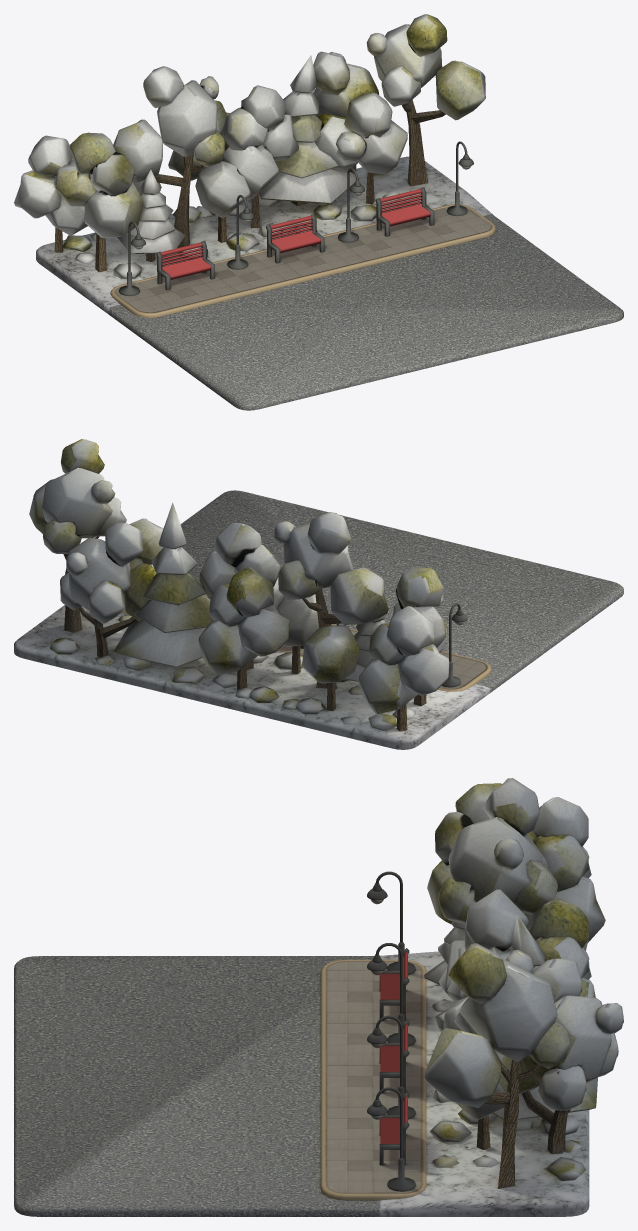
The model's file is winter_pak_test_01.FBX.
3 renders of one model, top to bottom at view 1: azimuth 30°, elevation 25°; view 2: azimuth 150°, elevation 25°; view 3: azimuth 270°, elevation 25°, orthographic. The views are drawn at different scales.
Visible parts, largest first — view 1: bench_ground_lamp_01; view 2: bench_ground_lamp_01; view 3: bench_ground_lamp_01.
Part boxes in pixels (x1,y1,x2,y2): bench_ground_lamp_01: (14,14,623,410); bench_ground_lamp_01: (14,439,623,749); bench_ground_lamp_01: (14,778,623,1216).
Bounding box in the file's own units: 78.43 × 31.98 × 71.02.
5 materials, 5 textured.
